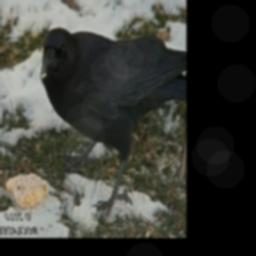Crow: (40, 26, 186, 215)
